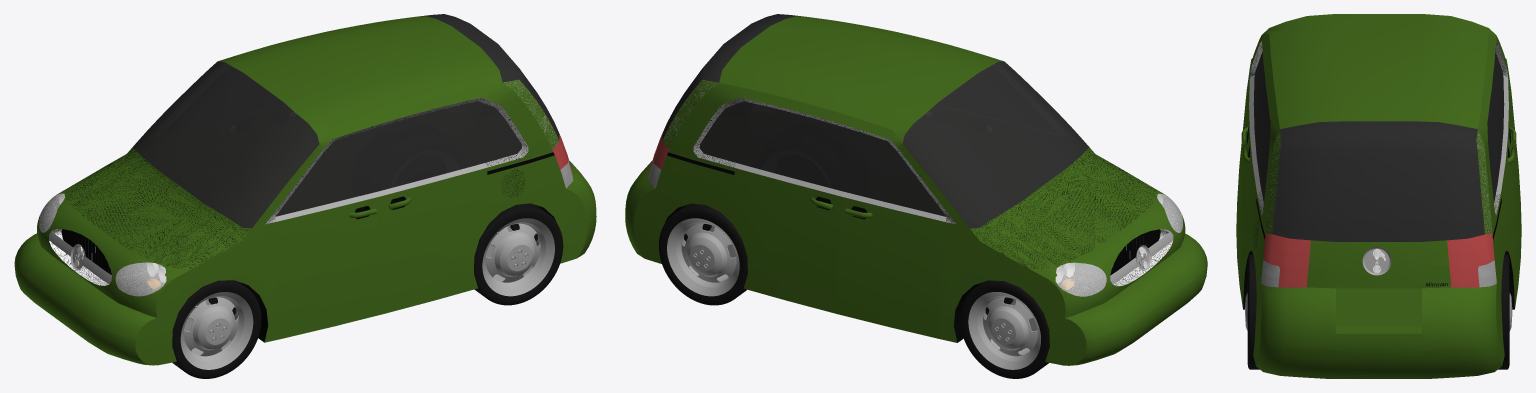
The picture shows the model from 3 angles, left to right: view 1: azimuth 30°, elevation 25°; view 2: azimuth 150°, elevation 25°; view 3: azimuth 270°, elevation 25°; orthographic projection. The views are drawn at different scales.
Parts seen in each view (by area): view 1: SketchUp (×6), Component_9 (×3), Component_10 (×3), Component_18 (×3), group_9 (×2), group_8 (×2), group_7 (×2), Component_15 (×2), Component_17, Component_16, Component_6, Component_23; view 2: SketchUp (×6), Component_9 (×3), Component_10 (×3), Component_18 (×3), group_9 (×2), group_8 (×2), group_7 (×2), Component_15 (×2), Component_17, Component_16, Component_6; view 3: SketchUp (×4), Component_17 (×2), Component_6 (×6), Component_9 (×6), Component_10 (×6), group_9 (×2), Component_30.
Boxes of the visible parts, x1,y1,x2,y2 form: SketchUp (×6): (14,16,596,365); Component_9 (×3): (372,104,488,302); Component_10 (×3): (275,129,384,322); Component_18 (×3): (64,147,251,268); group_9 (×2): (172,203,563,378); group_8 (×2): (184,223,540,356); group_7 (×2): (180,218,554,369); Component_15 (×2): (39,193,166,296); Component_17: (415,14,559,140); Component_16: (116,262,163,295); Component_6: (503,79,558,149); Component_23: (501,169,525,198); SketchUp (×6): (625,16,1207,365); Component_9 (×3): (733,104,849,302); Component_10 (×3): (836,129,946,323); Component_18 (×3): (970,147,1157,268); group_9 (×2): (658,203,1049,378); group_8 (×2): (681,223,1037,356); group_7 (×2): (667,218,1040,369); Component_15 (×2): (1055,193,1182,296); Component_17: (662,14,806,140); Component_16: (1058,263,1106,296); Component_6: (662,79,718,149); SketchUp (×4): (1236,14,1521,378); Component_17 (×2): (1273,121,1484,288); Component_6 (×6): (1261,130,1496,287); Component_9 (×6): (1238,73,1519,286); Component_10 (×6): (1237,51,1520,245); group_9 (×2): (1247,254,1509,369); Component_30: (1362,247,1391,275).
Size of the model in its own units: 203 by 90.06 by 87.33.
